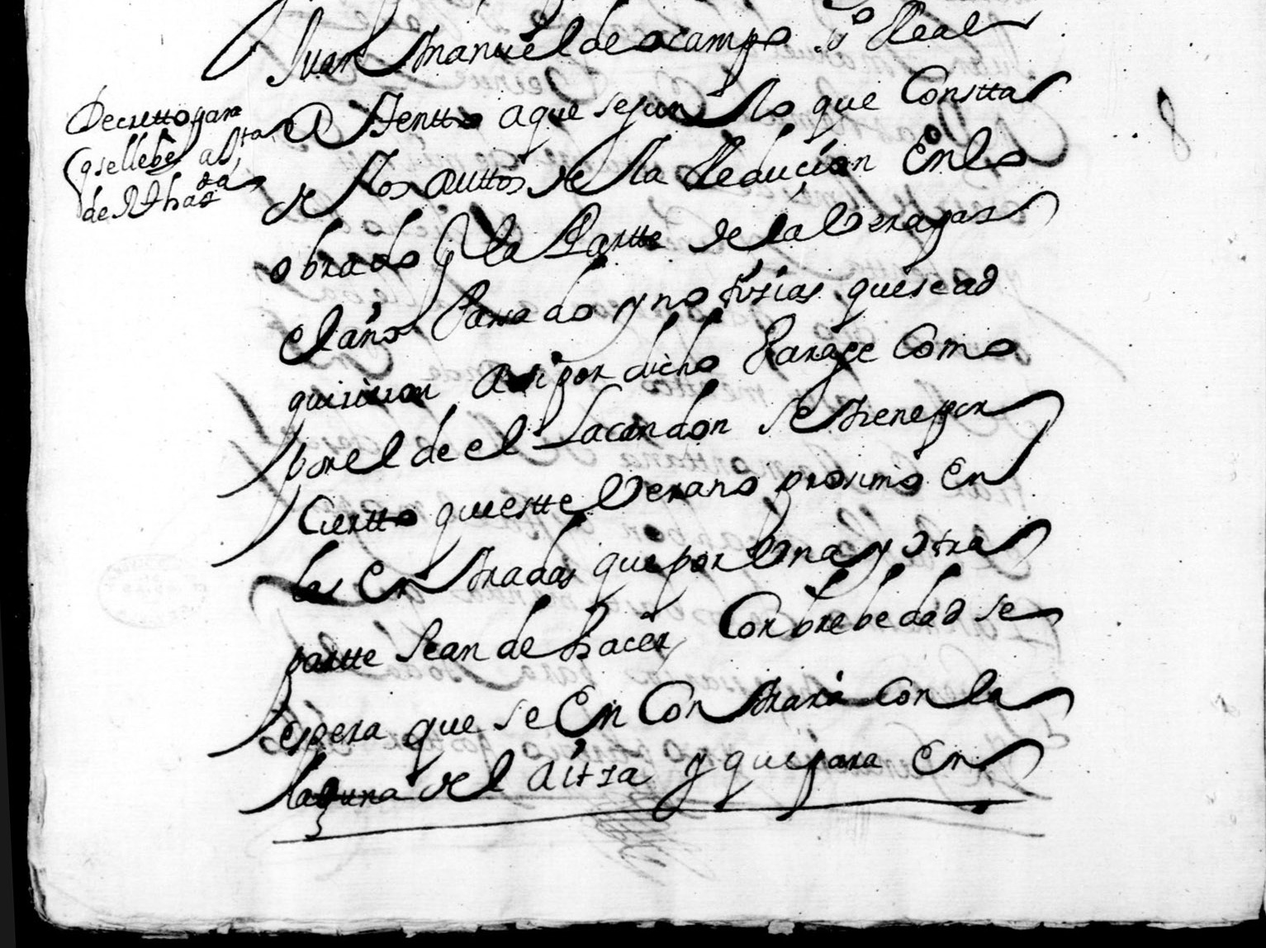lacandon: (532, 378, 732, 450)
